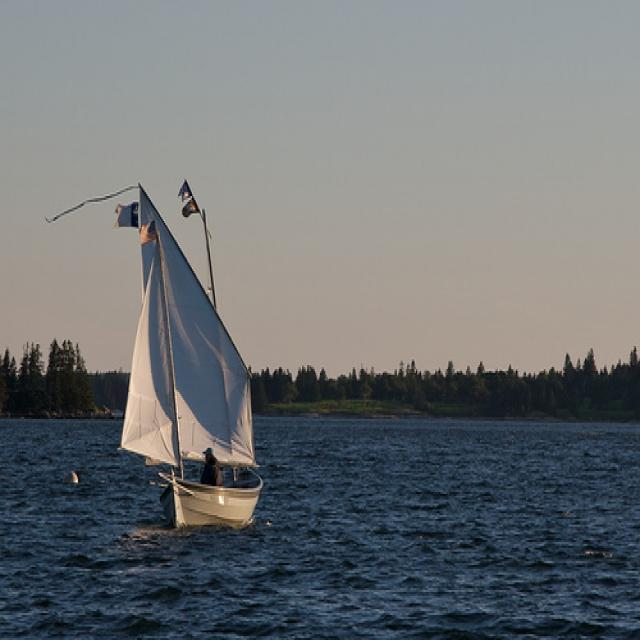Ship: (96, 180, 274, 536)
